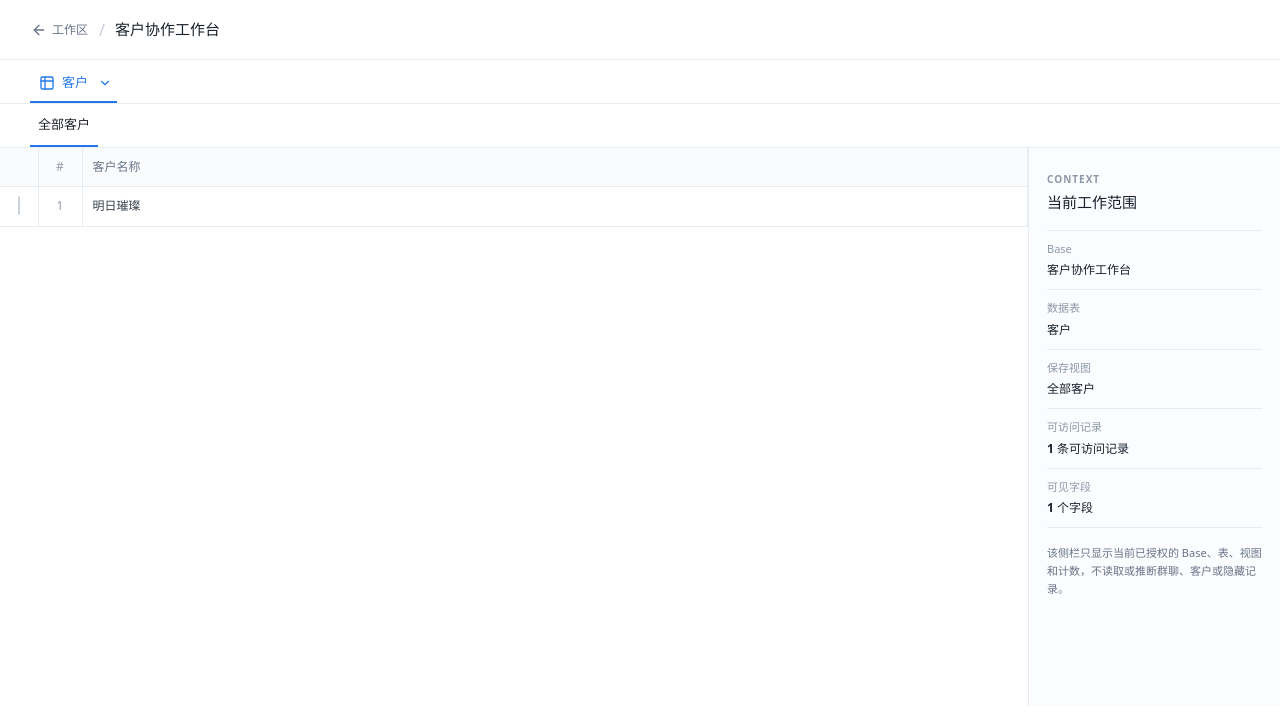
Test: opens the same record detail action from a desktop right-click menu
Right-click the text "明日璀璨": (555, 206) [82,186,1028,226]
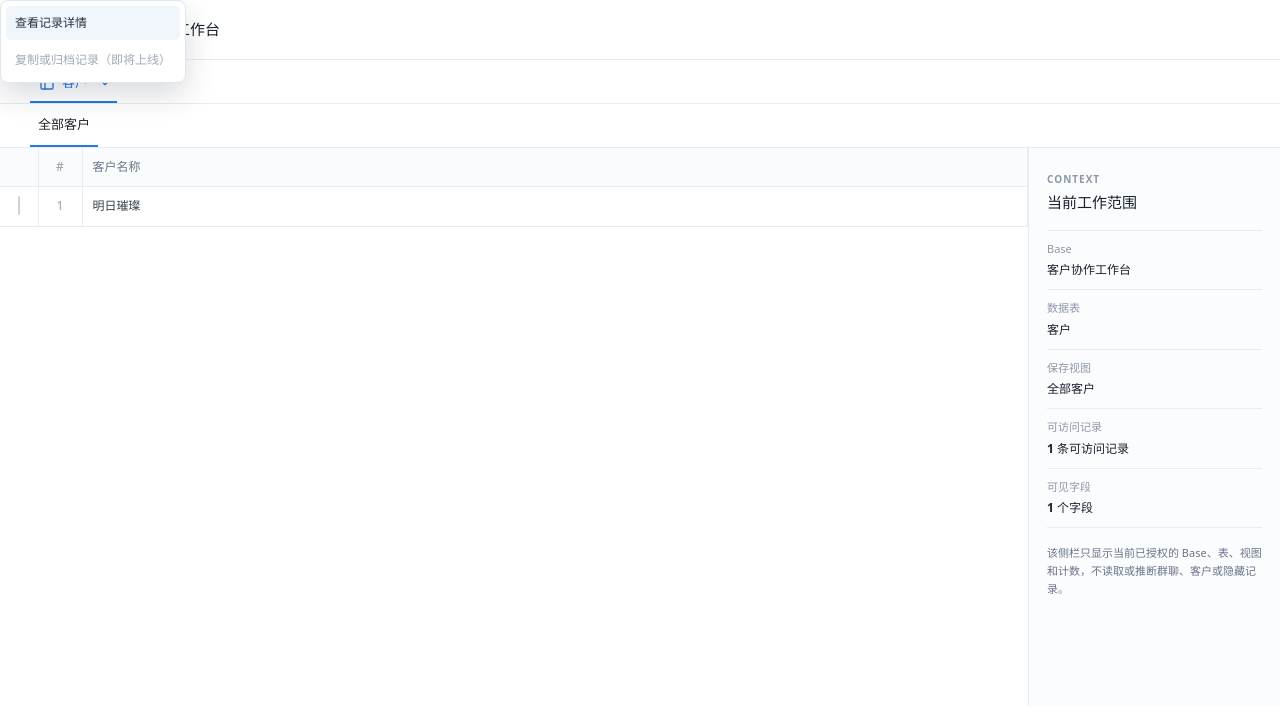
Result: the menu named "记录操作" is shown at [0,0,186,83]
Click the menu item "查看记录详情": click(93, 23) [6,6,180,40]
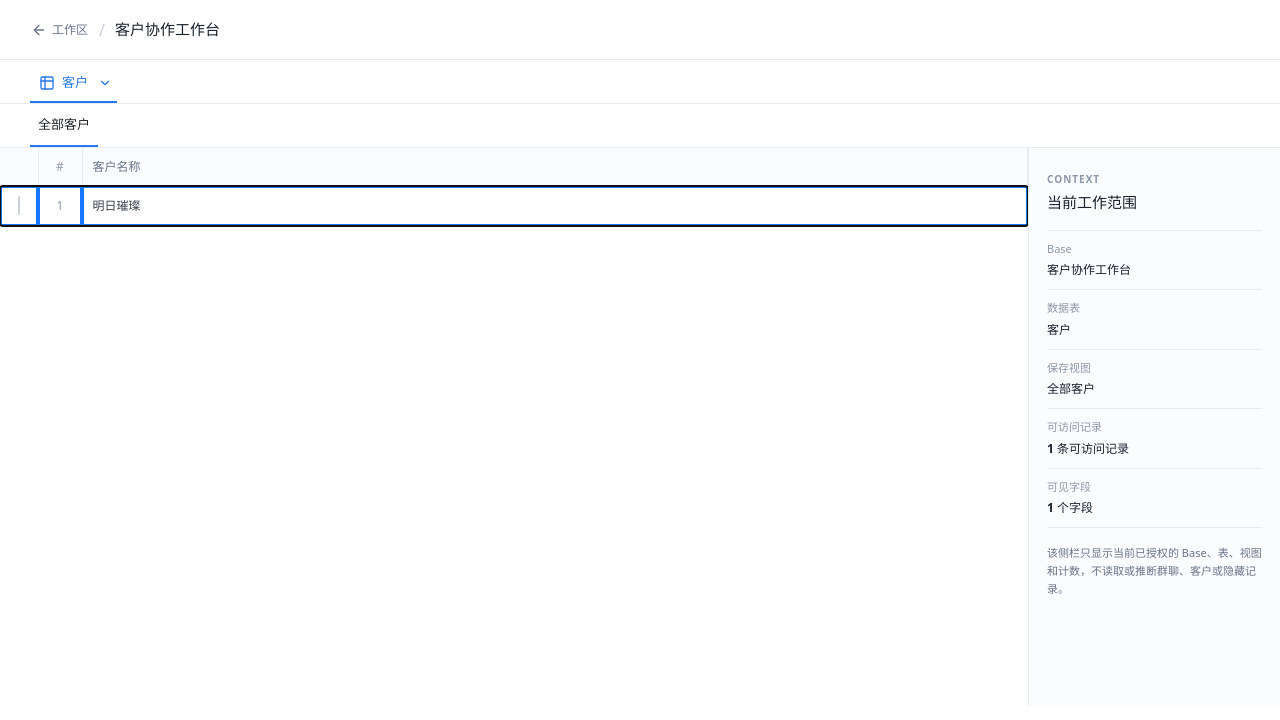
Result: the menu "记录操作" is gone
